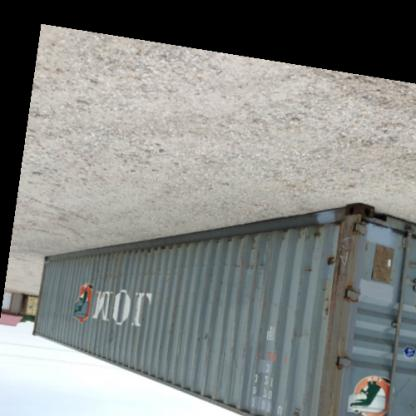Damage: (87, 254, 125, 344), (214, 234, 268, 278), (326, 232, 349, 282), (276, 225, 324, 247), (129, 244, 193, 260), (188, 330, 216, 354), (318, 283, 334, 320), (286, 330, 320, 344), (298, 266, 316, 277)
